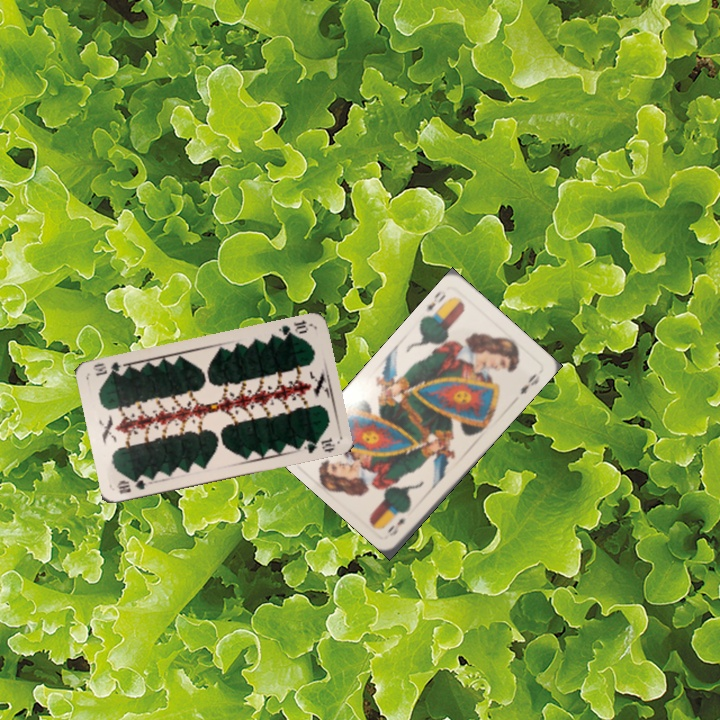EO: (422, 288, 450, 320), (384, 514, 408, 539)
G10: (274, 316, 312, 340), (113, 475, 148, 496)
